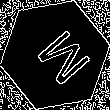M_SW: (22, 21, 88, 89)
